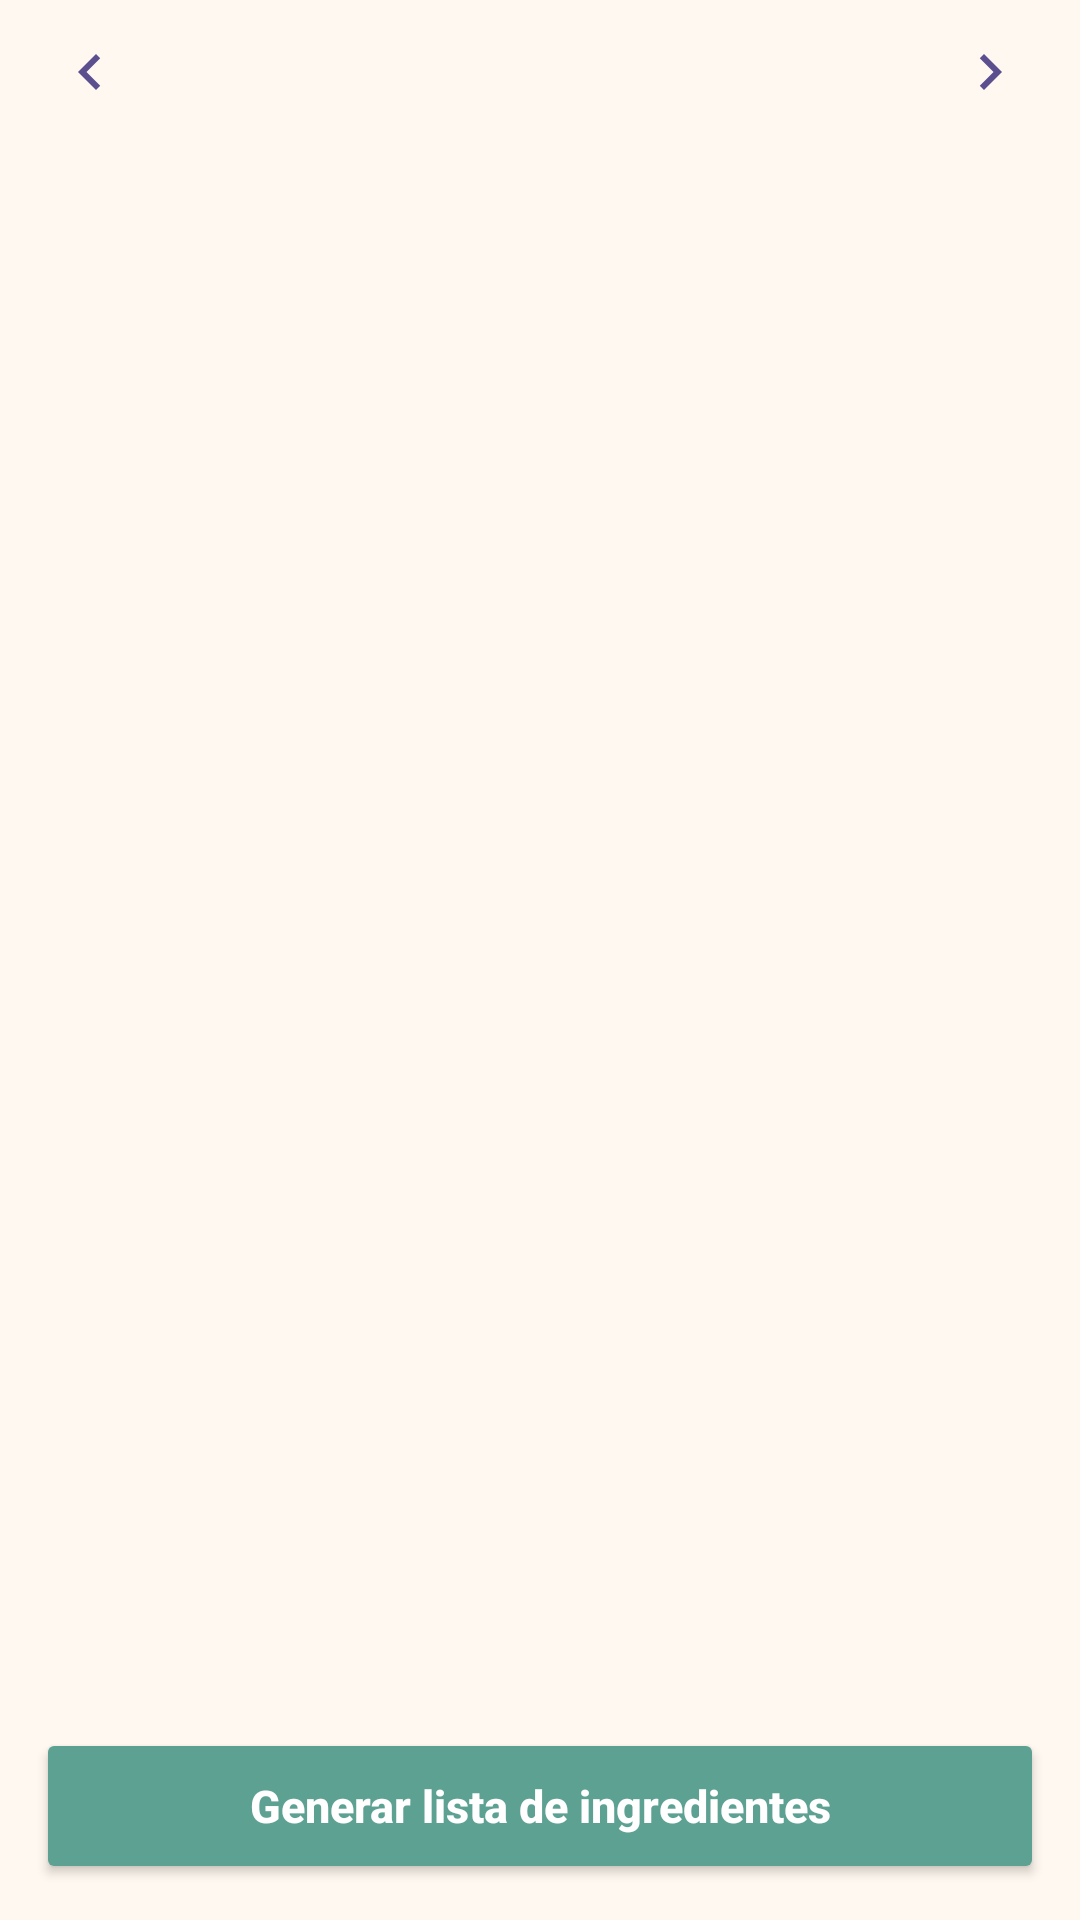

Screen size 1080 × 1920. Icon name, then its box in pixels as (x1, y1, x2, y2):
Semana anterior: (78, 54, 100, 90)
Semana siguiente: (980, 54, 1002, 90)
